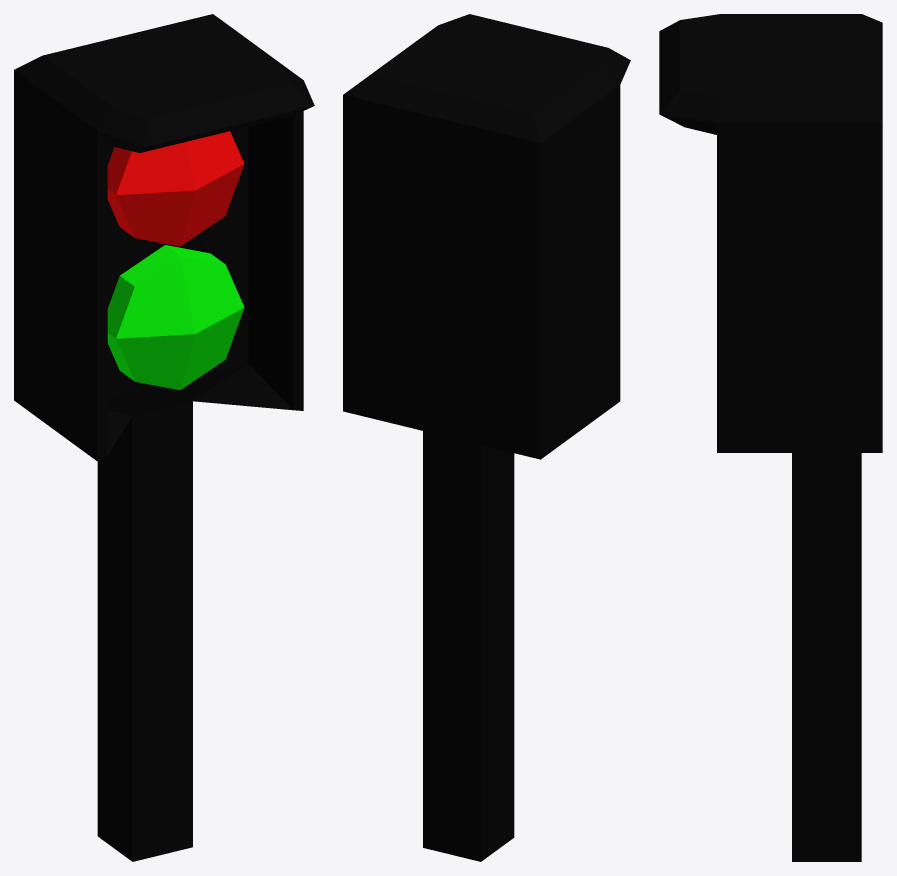
The model's file is LightPole.fbx.
The picture shows the model from 3 angles, left to right: view 1: azimuth 30°, elevation 25°; view 2: azimuth 150°, elevation 25°; view 3: azimuth 270°, elevation 25°; orthographic projection. The views are drawn at different scales.
Parts seen in each view (by area): view 1: Cube.001; view 2: Cube.001; view 3: Cube.001.
Part boxes in pixels (x1,y1,x2,y2): Cube.001: [14, 14, 314, 861]; Cube.001: [343, 14, 630, 861]; Cube.001: [659, 14, 882, 861].
Size of the model in its own units: 68.11 by 250 by 64.04.
